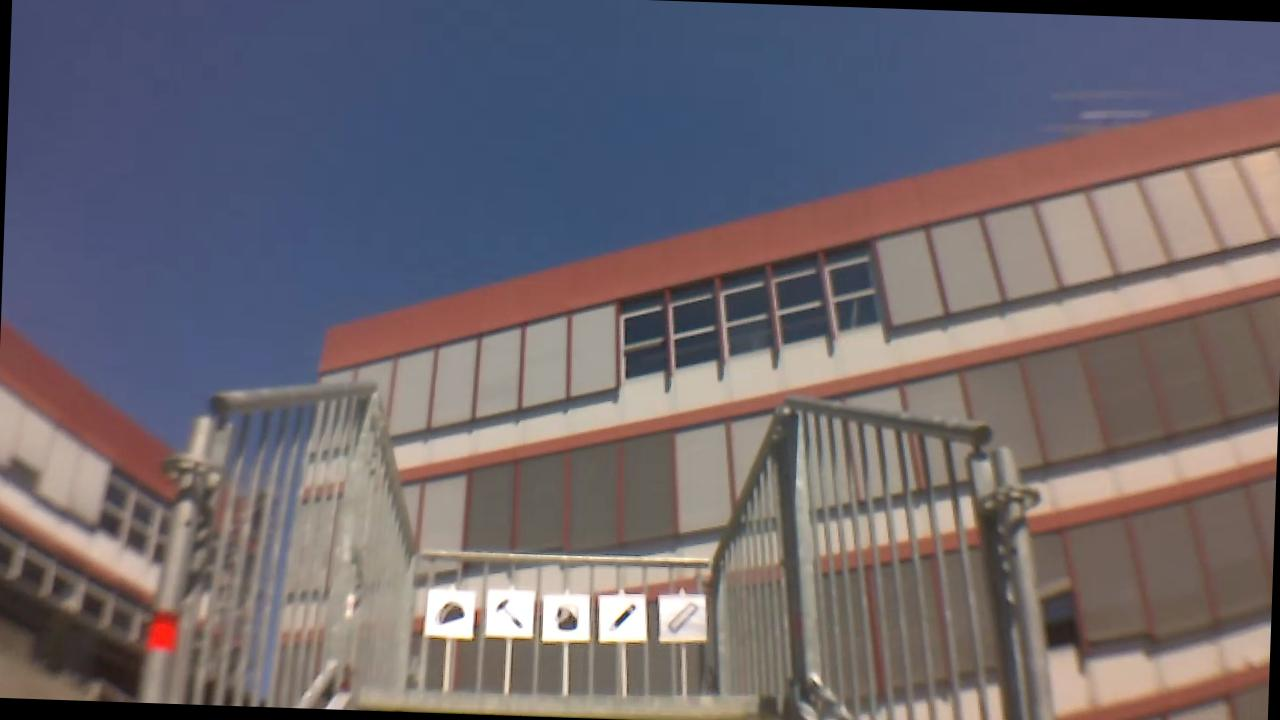bucket: (552, 602, 579, 634)
edge: (357, 684, 782, 718)
hammer: (486, 595, 529, 632)
pencil: (605, 598, 636, 629)
ruler: (667, 596, 699, 634)
taco: (434, 599, 467, 626)
